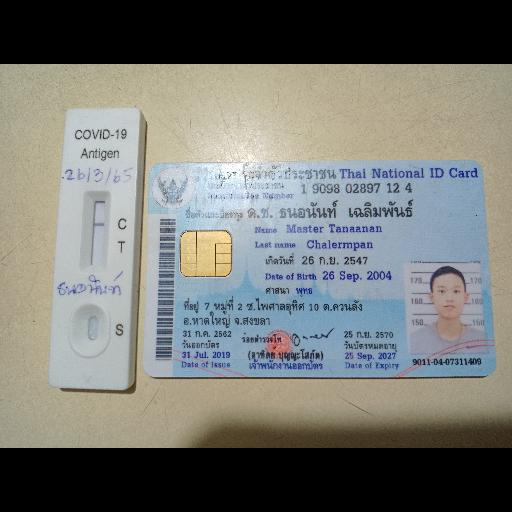Neg: (49, 108, 145, 391)
